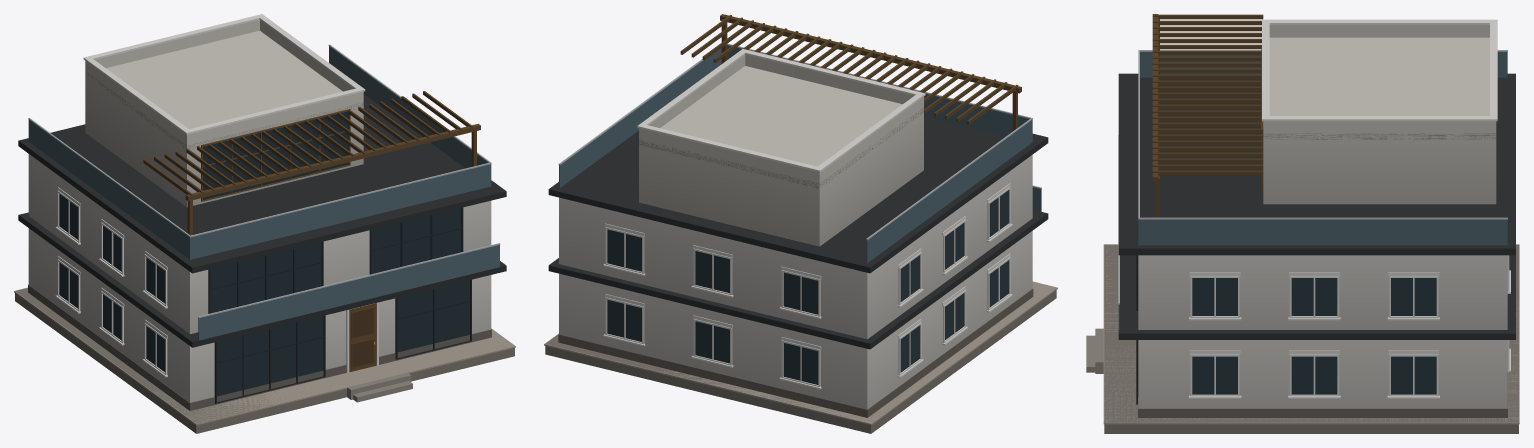
Rendered from ns_dup5.glb.
The picture shows the model from 3 angles, left to right: view 1: azimuth 30°, elevation 25°; view 2: azimuth 150°, elevation 25°; view 3: azimuth 270°, elevation 25°; orthographic projection. The views are drawn at different scales.
Visible parts, largest first — view 1: ns_dup5; view 2: ns_dup5; view 3: ns_dup5.
Part boxes in pixels (x1=…): ns_dup5: x1=14, y1=14, x2=515, y2=433; ns_dup5: x1=544, y1=14, x2=1057, y2=433; ns_dup5: x1=1086, y1=14, x2=1519, y2=433.
Bounding box in the file's own units: 14.86 × 10.48 × 15.27.
